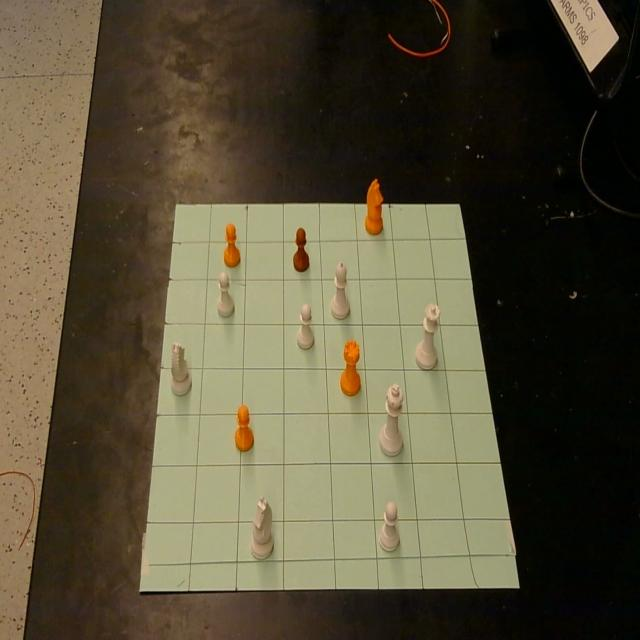orange_knight: (365, 178, 384, 235)
orange_pawn: (236, 404, 254, 451), (223, 222, 240, 268), (293, 228, 310, 272)
orange_rook: (341, 338, 361, 396)
white_bishop: (331, 261, 350, 319)
white_king: (378, 382, 404, 457)
white_knight: (250, 496, 273, 560), (170, 341, 191, 396)
white_pawn: (379, 500, 400, 552), (217, 270, 234, 317), (297, 304, 314, 349)
white_queen: (414, 302, 440, 370)
